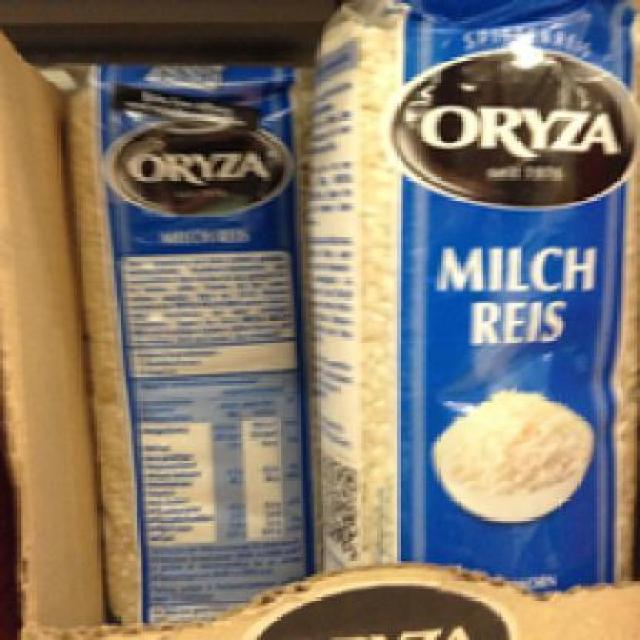Rice: (300, 0, 637, 580), (53, 57, 310, 620)
